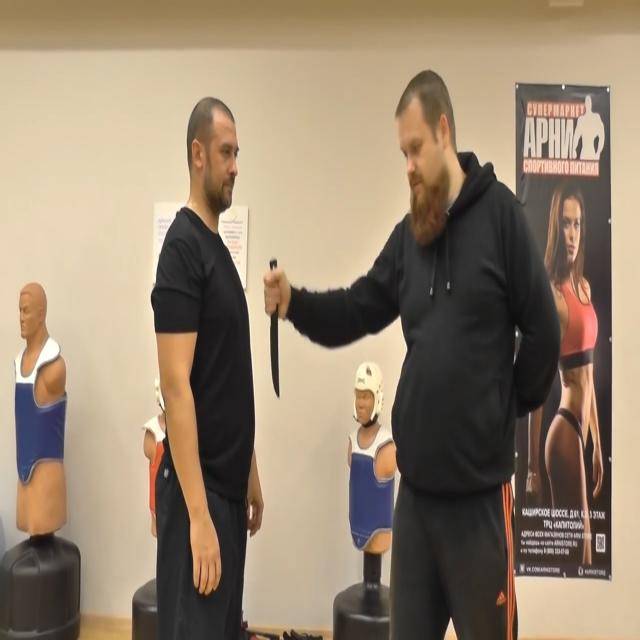knife: (269, 253, 285, 401)
